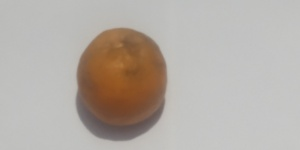BAD: (73, 25, 174, 131)
